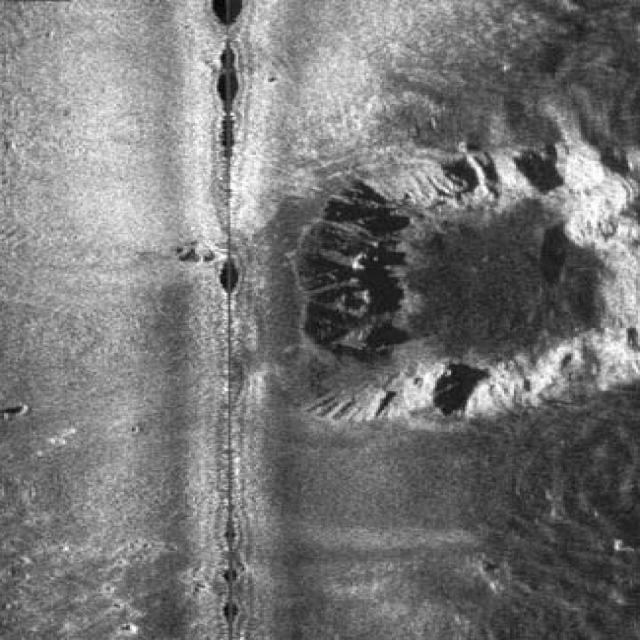other: (276, 142, 634, 432)
